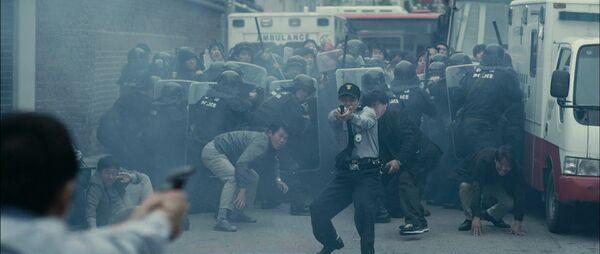Gun: (167, 165, 199, 193), (339, 103, 345, 116)
